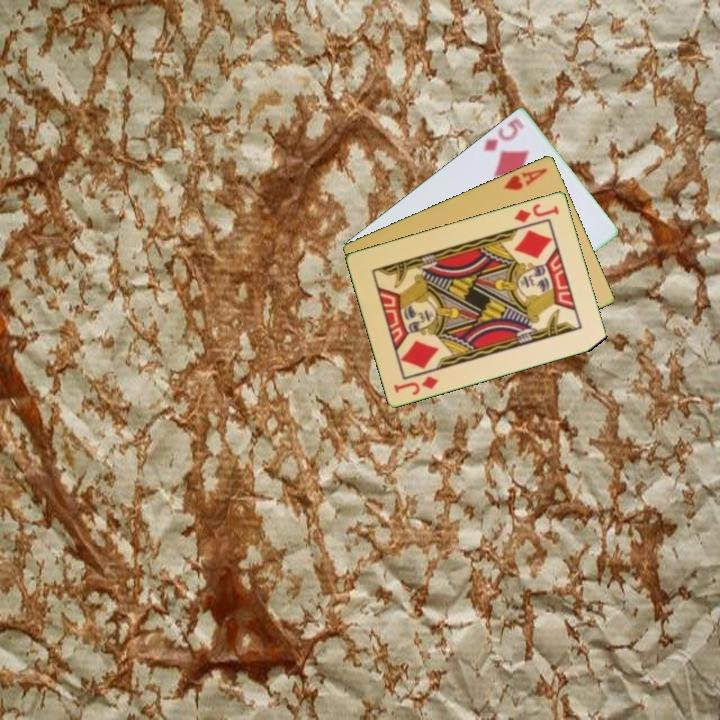5d: (480, 114, 527, 154)
Ah: (500, 164, 550, 193)
Jd: (390, 372, 442, 398), (511, 200, 562, 225)
